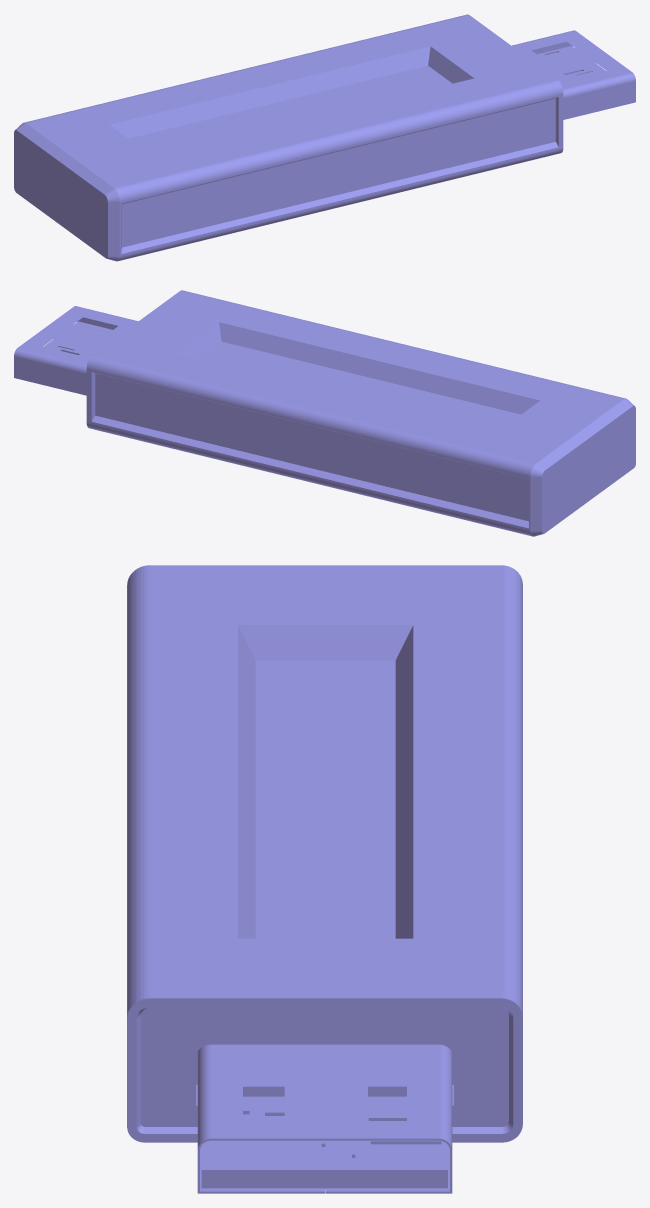
The model's file is usb.glb.
The picture shows the model from 3 angles, top to bottom: view 1: azimuth 30°, elevation 25°; view 2: azimuth 150°, elevation 25°; view 3: azimuth 270°, elevation 25°; orthographic projection. The views are drawn at different scales.
Visible parts, largest first — view 1: Node2, Node355, Node59, Node57, Node189, Node358, Node69, Node3, Node70, Node242, Node38, Node39 (+24 smaller); view 2: Node2, Node354, Node59, Node66, Node189, Node362, Node69, Node4, Node68, Node242, Node10, Node11 (+23 smaller); view 3: Node2, Node59, Node636, Node69, Node5, Node97, Node64, Node57, Node66, Node572, Node565, Node31 (+19 smaller).
Boxes of the visible parts, <box> form: Node2: <box>26,15,557,187</box>; Node355: <box>122,98,555,247</box>; Node59: <box>129,65,451,156</box>; Node57: <box>109,46,430,138</box>; Node189: <box>14,130,107,258</box>; Node358: <box>121,142,558,253</box>; Node69: <box>512,31,632,89</box>; Node3: <box>119,94,563,255</box>; Node70: <box>563,81,635,119</box>; Node242: <box>17,124,113,194</box>; Node38: <box>118,87,562,196</box>; Node39: <box>119,88,562,197</box>; Node2: <box>92,291,623,463</box>; Node354: <box>95,373,528,521</box>; Node59: <box>197,341,520,432</box>; Node66: <box>219,322,539,414</box>; Node189: <box>542,406,635,533</box>; Node362: <box>92,415,528,528</box>; Node69: <box>18,306,136,364</box>; Node4: <box>86,369,530,530</box>; Node68: <box>14,356,86,395</box>; Node242: <box>536,399,632,470</box>; Node10: <box>87,363,530,473</box>; Node11: <box>87,362,531,471</box>; Node2: <box>149,565,501,998</box>; Node59: <box>255,660,395,938</box>; Node636: <box>141,1008,508,1126</box>; Node69: <box>211,1044,438,1138</box>; Node5: <box>127,998,522,1142</box>; Node97: <box>201,1096,447,1169</box>; Node64: <box>238,625,412,660</box>; Node57: <box>395,625,413,938</box>; Node66: <box>238,625,255,938</box>; Node572: <box>201,1170,447,1188</box>; Node565: <box>197,1138,452,1193</box>; Node31: <box>146,565,149,998</box>.
Bounding box in the file's own units: 27.59 × 3.58 × 8.7.
